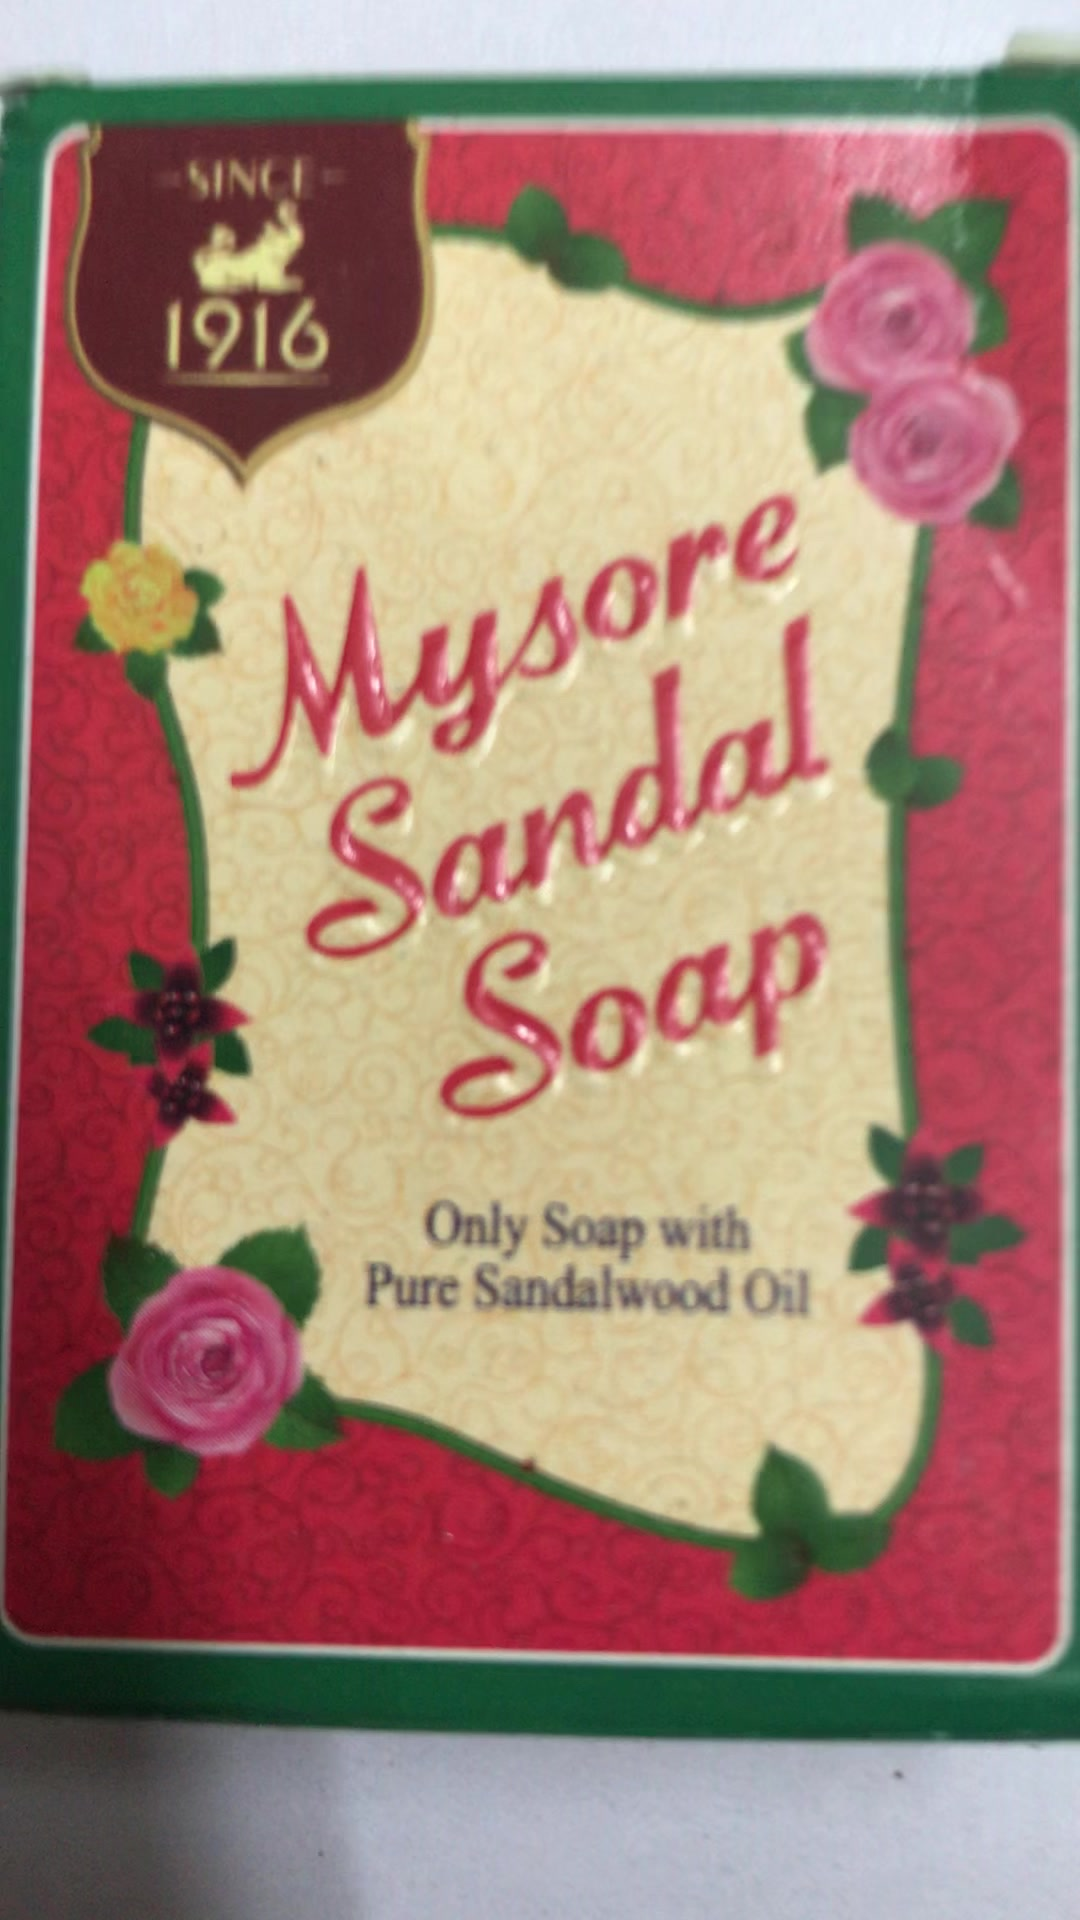mysore sandal soap: (15, 80, 1080, 1756)
